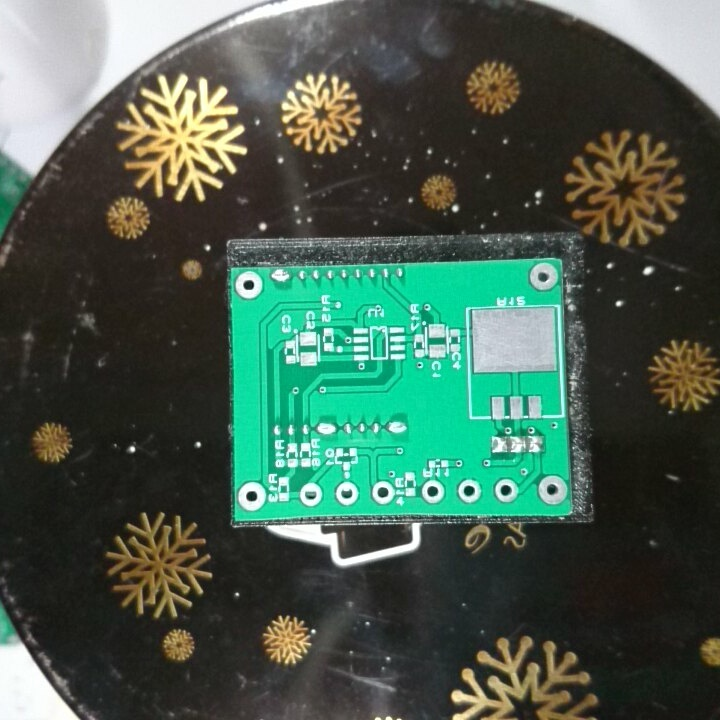F: (235, 480, 269, 513), (535, 473, 568, 506), (233, 269, 265, 301), (528, 261, 559, 293), (456, 477, 484, 505), (419, 479, 447, 506), (491, 476, 519, 503), (370, 478, 396, 507), (334, 480, 361, 505), (299, 481, 325, 506)
P: (385, 418, 411, 438), (268, 267, 293, 287), (315, 419, 340, 436)
